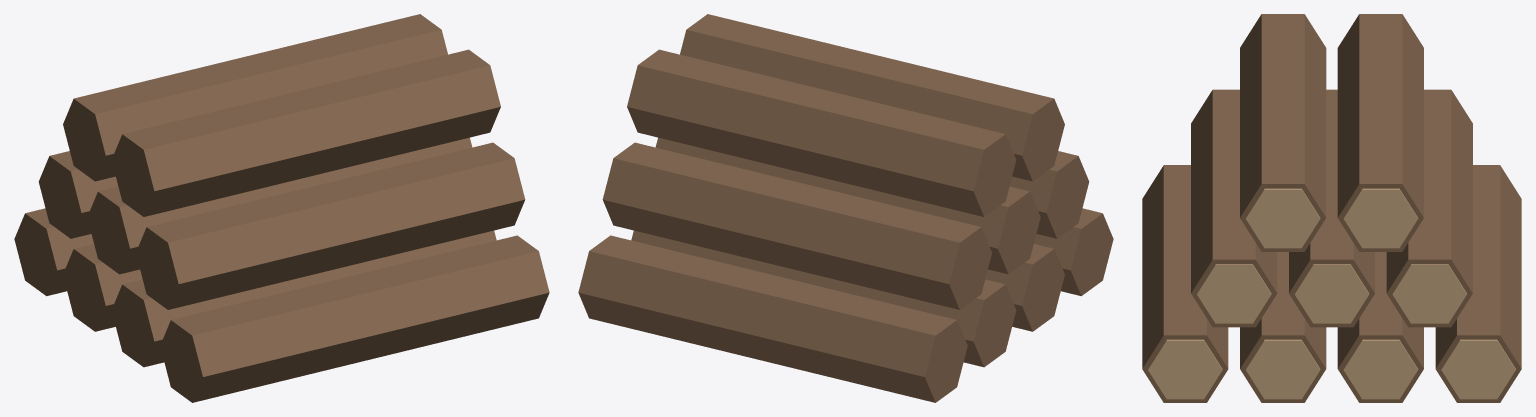
Rendered from SM_FirewoodPile.fbx.
3 renders of one model, left to right at view 1: azimuth 30°, elevation 25°; view 2: azimuth 150°, elevation 25°; view 3: azimuth 270°, elevation 25°, orthographic.
Visible parts, largest first — view 1: SM_FirewoodPile; view 2: SM_FirewoodPile; view 3: SM_FirewoodPile.
Boxes of the visible parts, bbox=[...] form: SM_FirewoodPile: bbox=[14, 14, 549, 402]; SM_FirewoodPile: bbox=[578, 14, 1113, 402]; SM_FirewoodPile: bbox=[1142, 14, 1521, 402].
Size of the model in its own units: 0.7035 by 0.4199 by 0.66.
